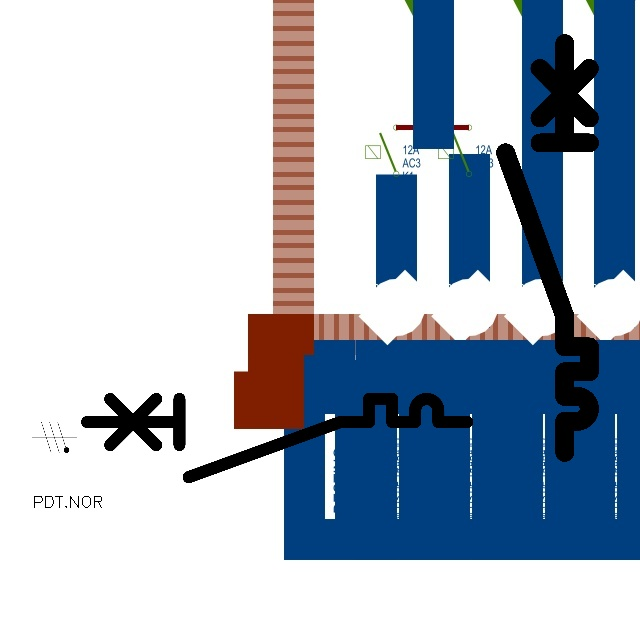interruptor_termomagnetico: (495, 33, 600, 463), (77, 389, 476, 486)
